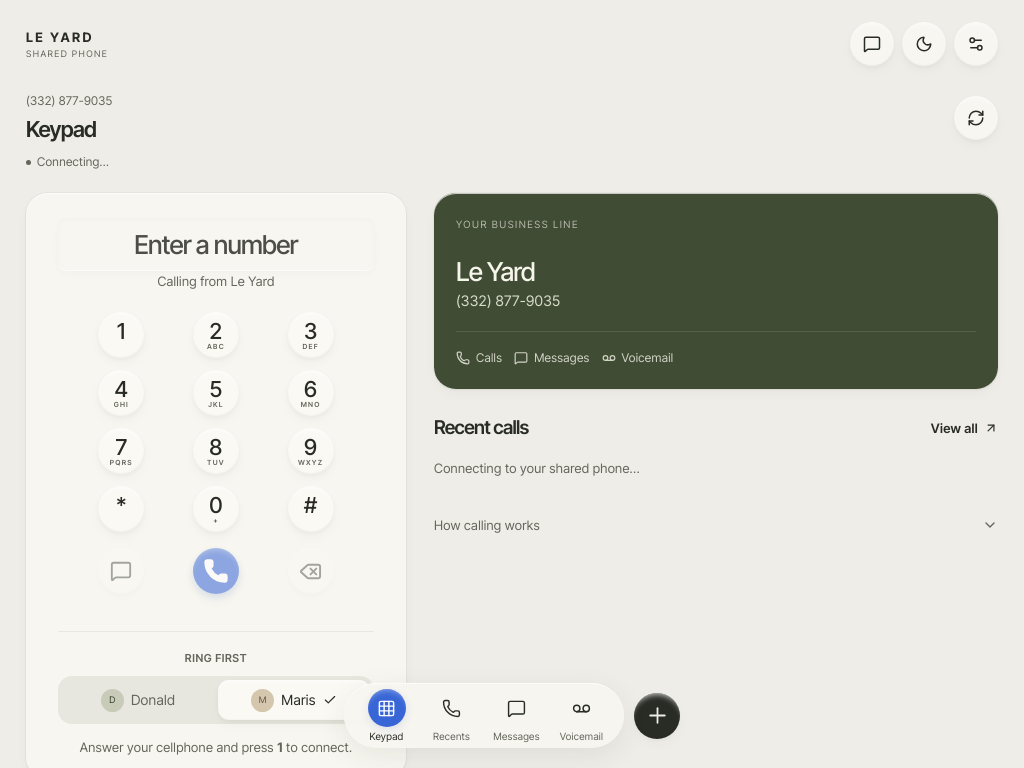
Test: recovers from a history outage using Retry without showing a false empty state
The image size is (1024, 768).
Step 1. Click the button "Recents" → (452, 716), box [419, 689, 484, 742]
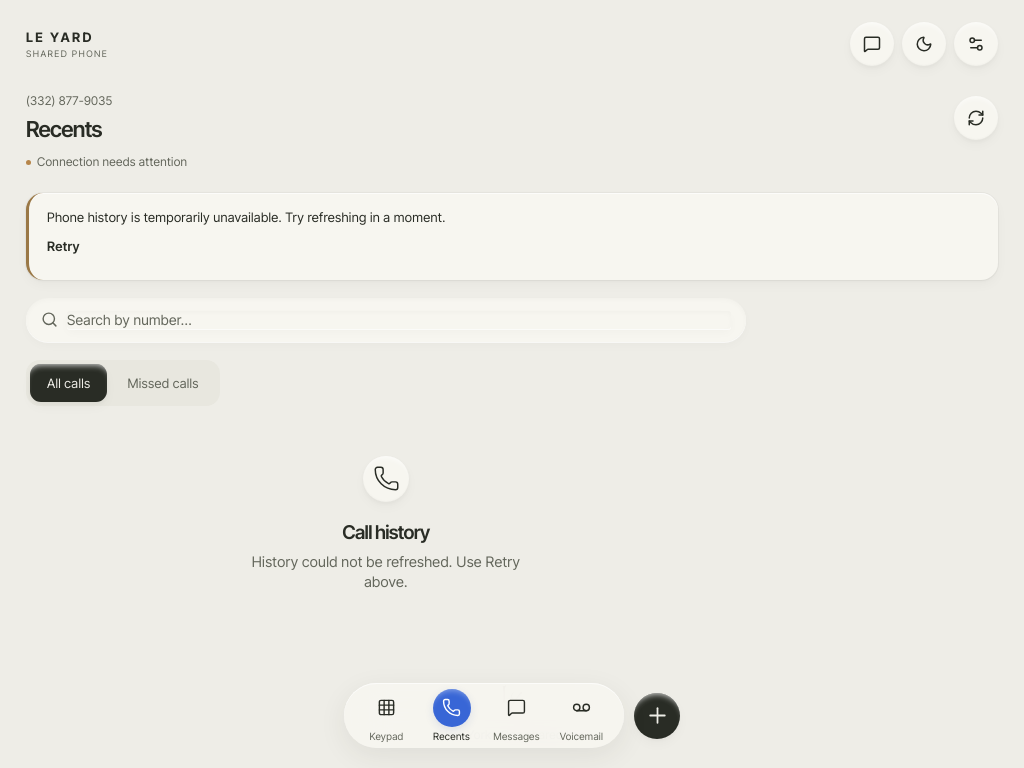
Check: the text "No calls in the recent history." is not shown
Step 2. Click the button "Retry" → (63, 247), box [47, 228, 80, 266]
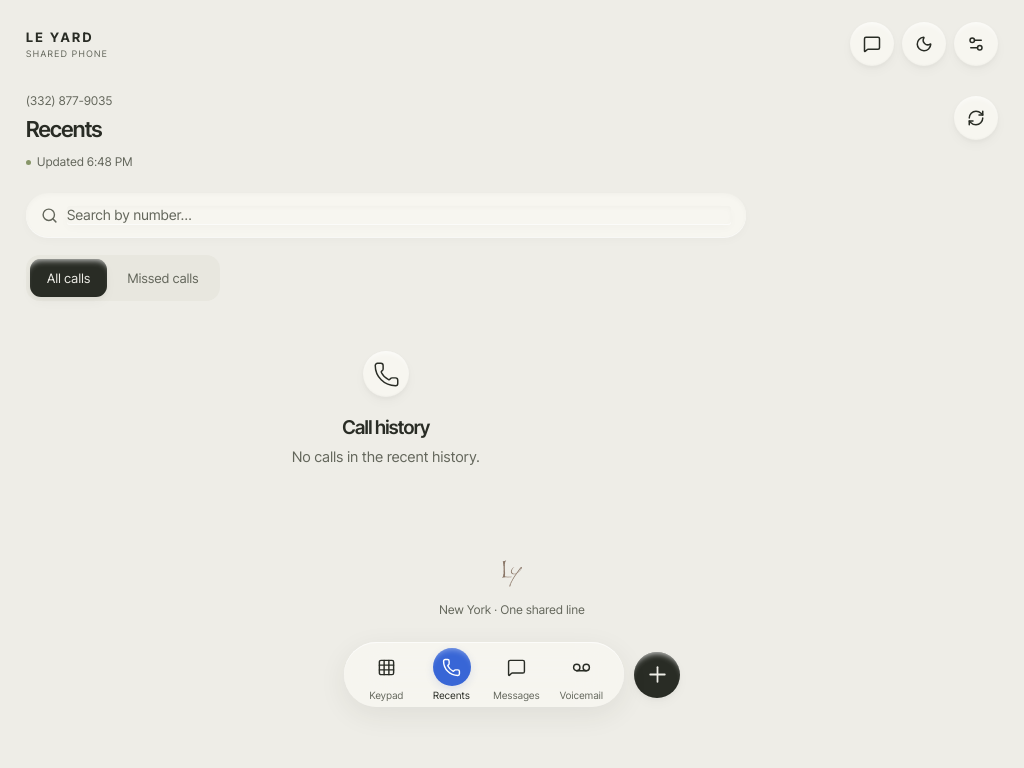
Check: the text "No calls in the recent history." is shown, box [292, 447, 480, 467]
